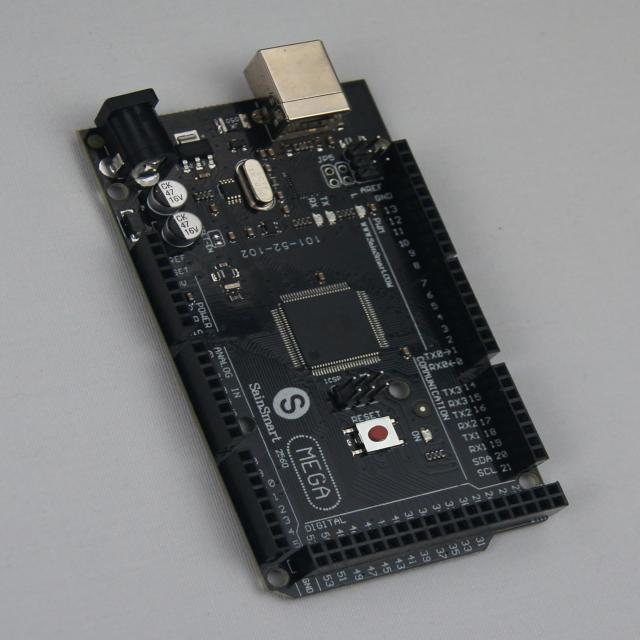Arduino Mega 2560 -Black-: (81, 42, 568, 597)
